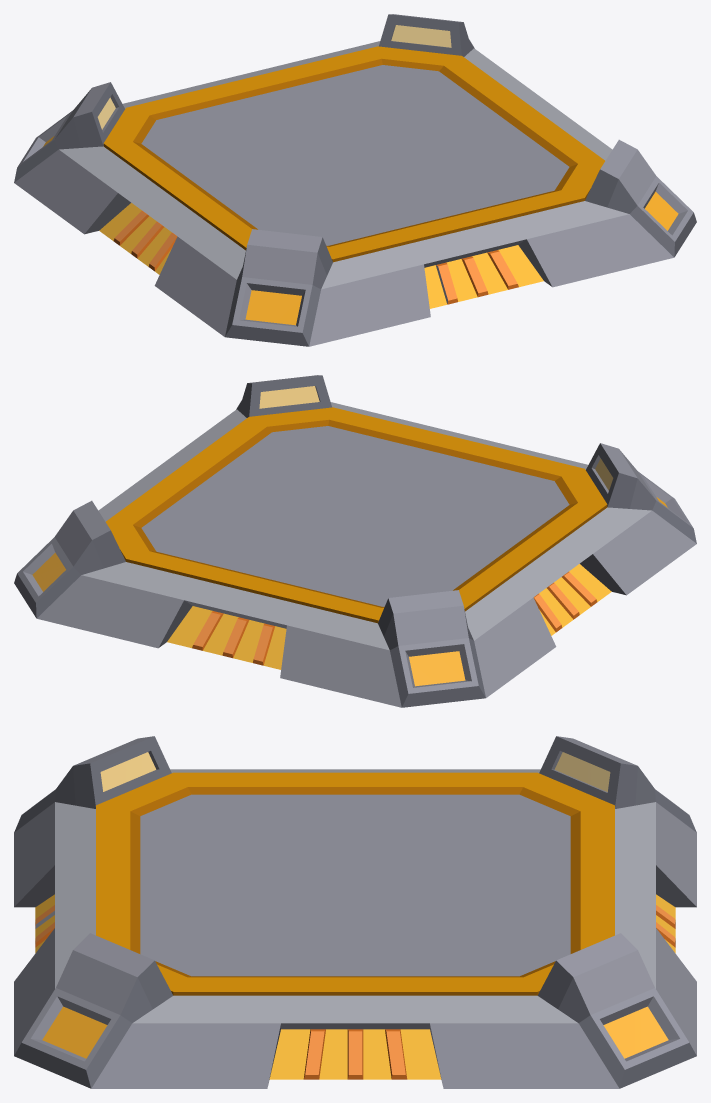
File: Teleporter_01.glb
The picture shows the model from 3 angles, top to bottom: view 1: azimuth 30°, elevation 25°; view 2: azimuth 150°, elevation 25°; view 3: azimuth 270°, elevation 25°; orthographic projection. The views are drawn at different scales.
Parts seen in each view (by area): view 1: Teleporter_01; view 2: Teleporter_01; view 3: Teleporter_01.
Part boxes in pixels (x1,y1,x2,y2): Teleporter_01: [14, 14, 696, 346]; Teleporter_01: [14, 375, 696, 707]; Teleporter_01: [14, 736, 696, 1088].
Size of what is drawn, in the model's own units: 1.94 by 0.3012 by 1.94.
1 material, 1 textured.
